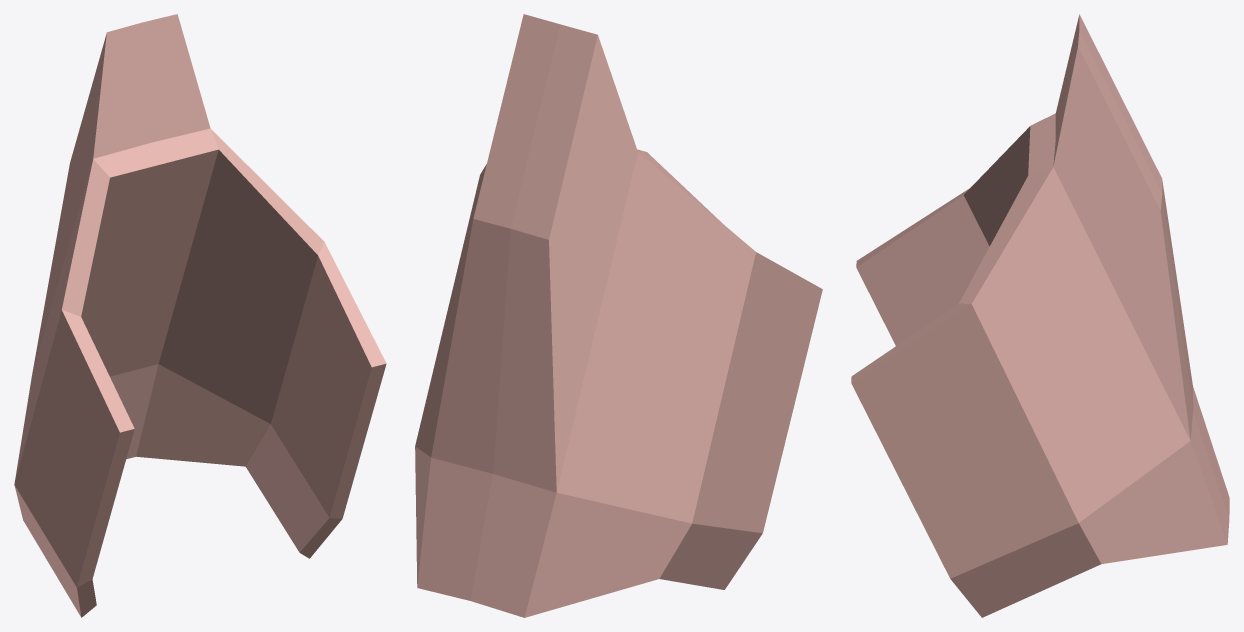
The model's file is cb_upper_arm_2.gltf.
The picture shows the model from 3 angles, left to right: view 1: azimuth 30°, elevation 25°; view 2: azimuth 150°, elevation 25°; view 3: azimuth 270°, elevation 25°; orthographic projection. The views are drawn at different scales.
Parts seen in each view (by area): view 1: Sphere.005; view 2: Sphere.005; view 3: Sphere.005.
Part boxes in pixels (<box>): Sphere.005: <box>14,14,386,617</box>; Sphere.005: <box>415,14,822,617</box>; Sphere.005: <box>851,14,1229,617</box>.
Size of the model in its own units: 1.28 by 2.43 by 1.56.
